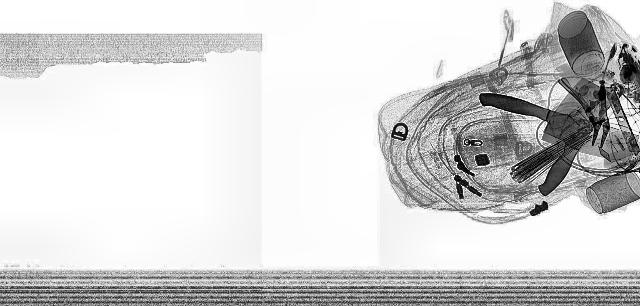Knife: (506, 76, 626, 198), (448, 90, 638, 158)
